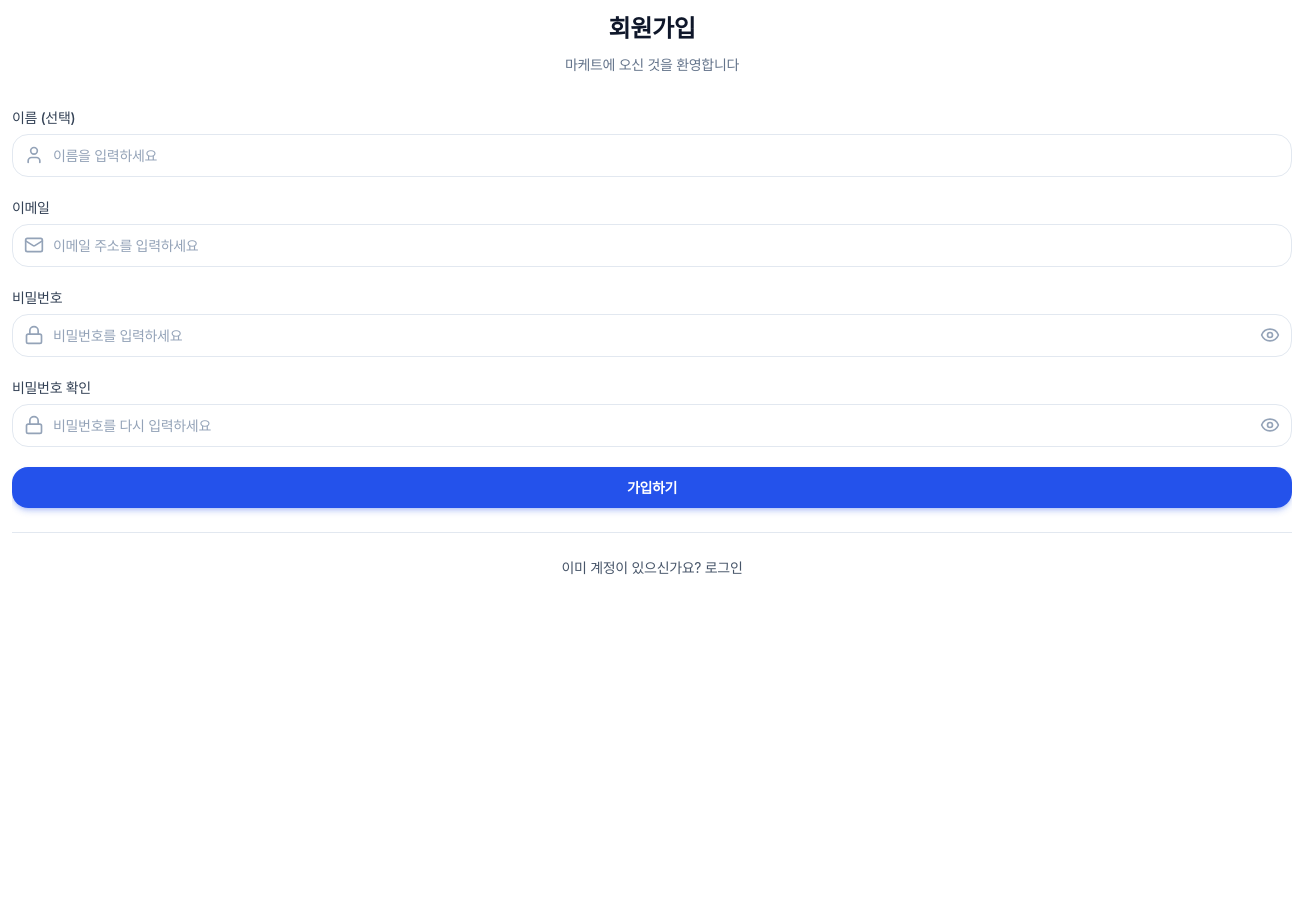
Scenario: SignUpForm › 유효성 검사 › 비밀번호가 8자 미만이면 에러 메시지를 표시한다
This screenshot has width=1304, height=912.
Type "short" into the password field labelled "비밀번호".
click(652, 335); type("short")  # box [12, 314, 1292, 357]
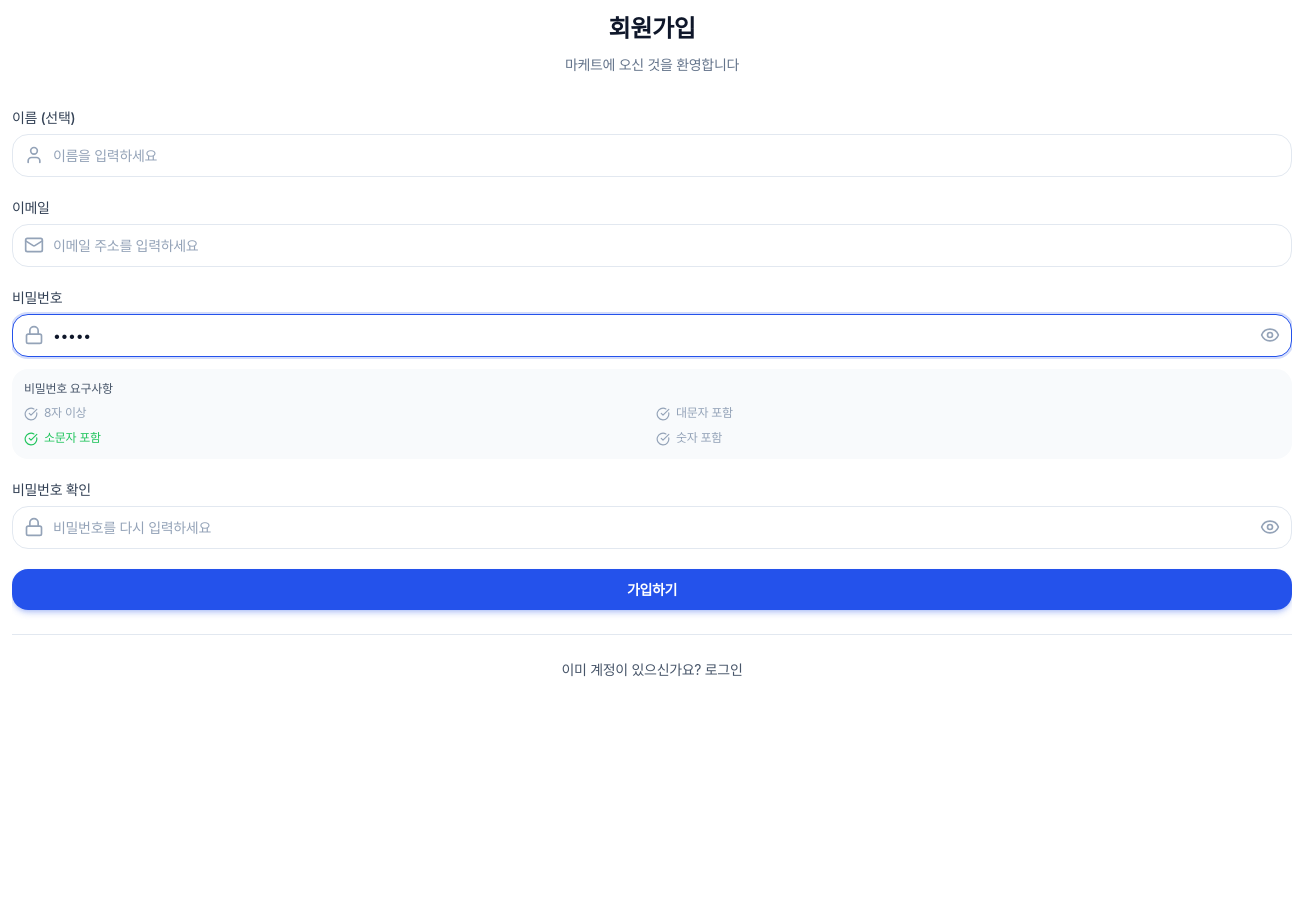
Leave the password field labelled "비밀번호", box [12, 314, 1292, 357]
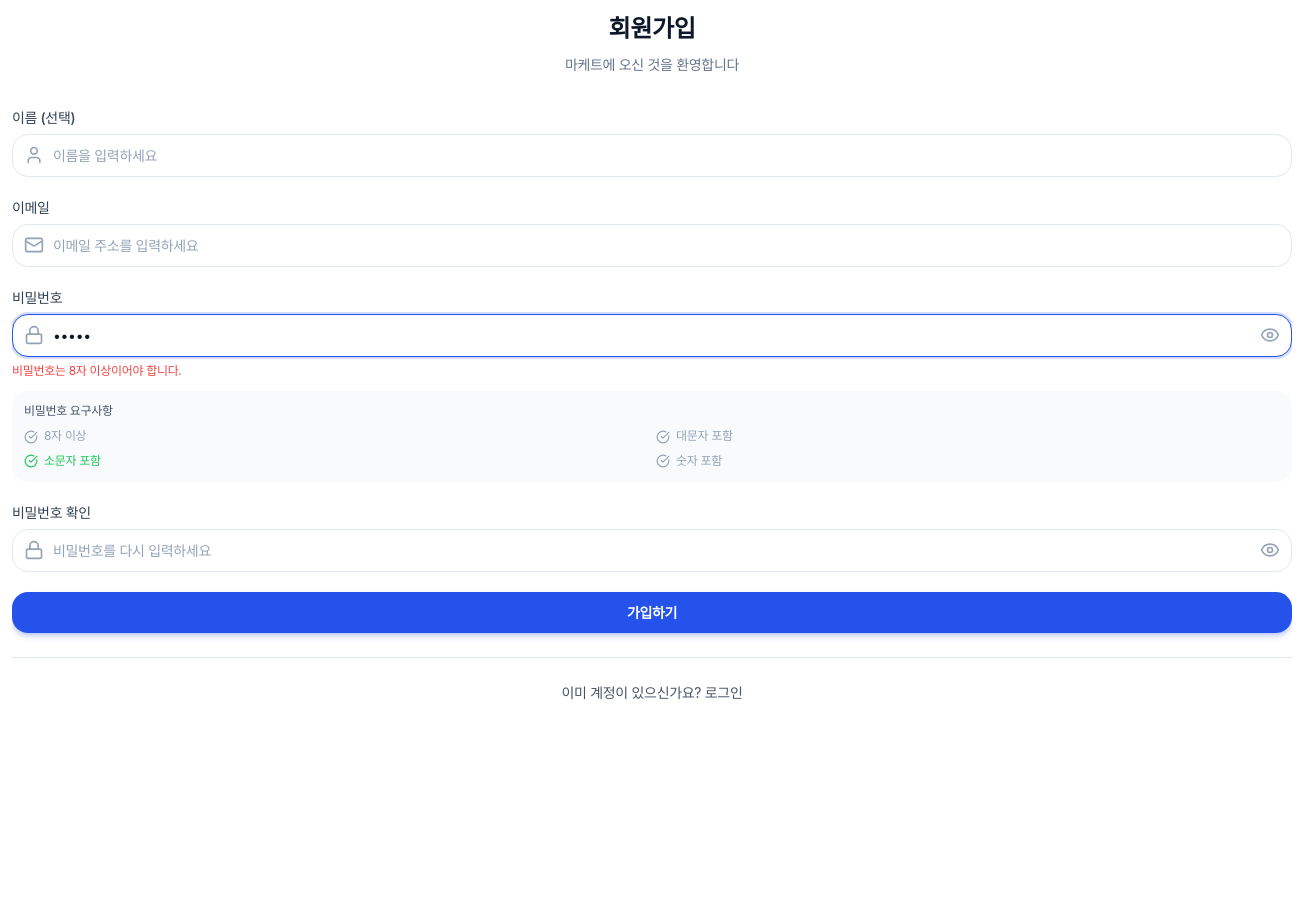
Expected: the text "비밀번호는 8자 이상이어야 합니다." is shown, [12, 363, 182, 378]
